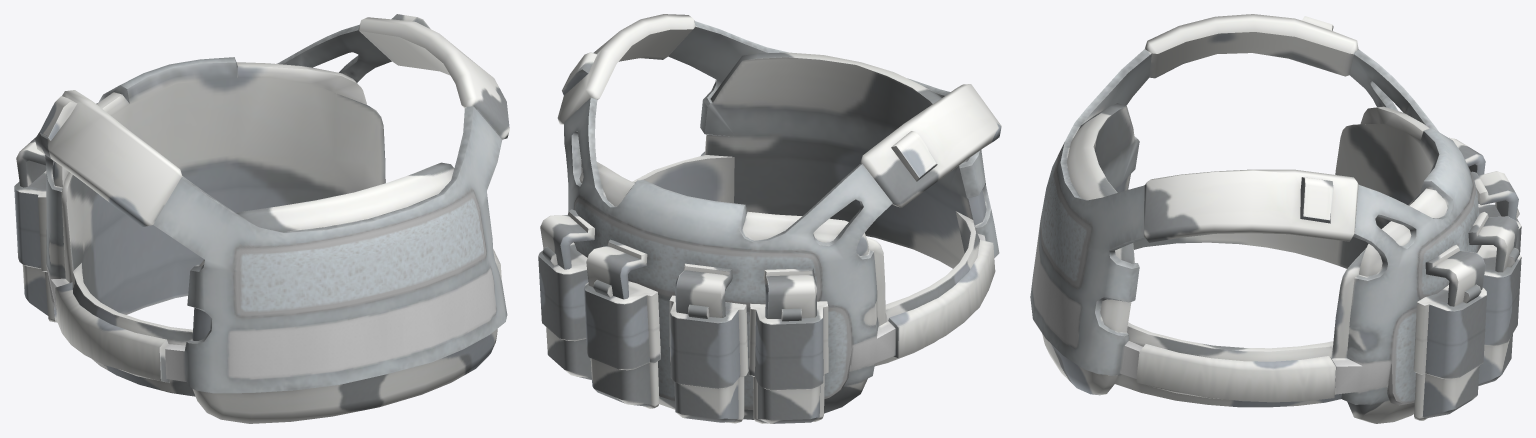
The model's file is IG_Armor_Lv3-3_Snow.fbx.
3 views of the same model, side by side, from view 1: azimuth 30°, elevation 25°; view 2: azimuth 150°, elevation 25°; view 3: azimuth 270°, elevation 25° (orthographic). The views are drawn at different scales.
Visible parts, largest first — view 1: Clothes_LV5_4_Snow; view 2: Clothes_LV5_4_Snow; view 3: Clothes_LV5_4_Snow.
Boxes of the visible parts, box(x1,y1,x2,y2) form: Clothes_LV5_4_Snow: box(14, 14, 509, 423); Clothes_LV5_4_Snow: box(538, 14, 1001, 423); Clothes_LV5_4_Snow: box(1030, 14, 1521, 423).
Bounding box in the file's own units: 0.6556 × 0.4502 × 0.7158.
